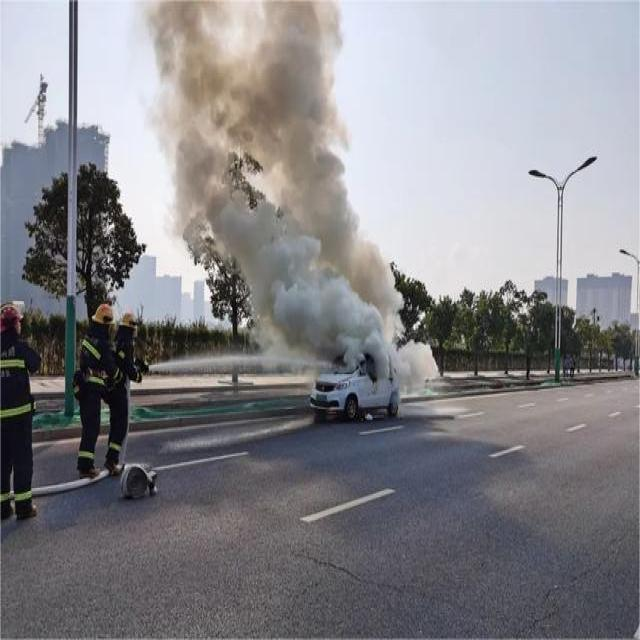Smoke: (148, 0, 405, 360), (394, 342, 439, 390)
